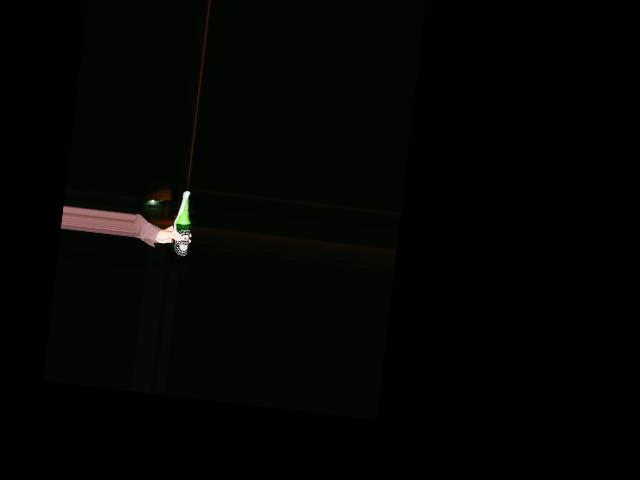beer: (170, 192, 195, 258)
